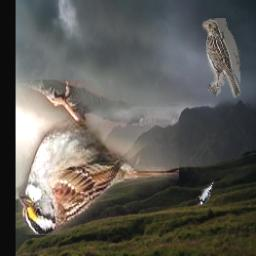Sparrow: (19, 80, 180, 235), (201, 19, 240, 99)
Woodpecker: (197, 177, 214, 205)
